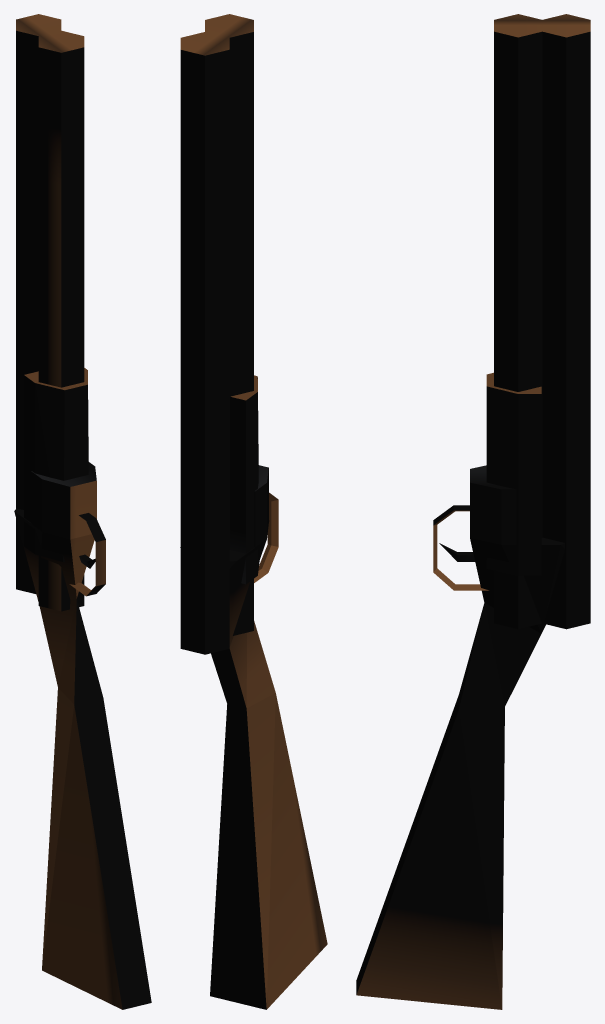
File: Win1894.fbx
3 views of the same model, side by side, from view 1: azimuth 30°, elevation 25°; view 2: azimuth 150°, elevation 25°; view 3: azimuth 270°, elevation 25° (orthographic). The views are drawn at different scales.
Visible parts, largest first — view 1: asset_Win1894.001; view 2: asset_Win1894.001; view 3: asset_Win1894.001.
Part boxes in pixels (x1=…): asset_Win1894.001: x1=14, y1=14, x2=151, y2=1009; asset_Win1894.001: x1=180, y1=14, x2=327, y2=1009; asset_Win1894.001: x1=356, y1=14, x2=590, y2=1009.
Size of the model in its own units: 0.0352 by 0.576 by 0.1259.
